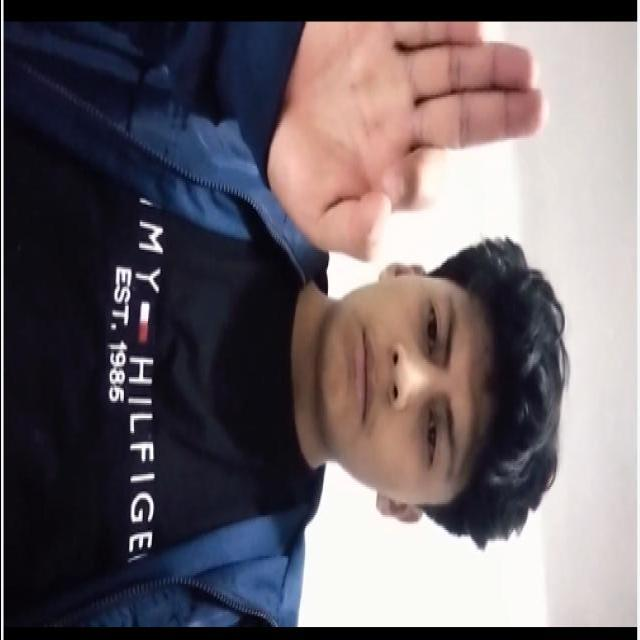F: (256, 15, 551, 243)
